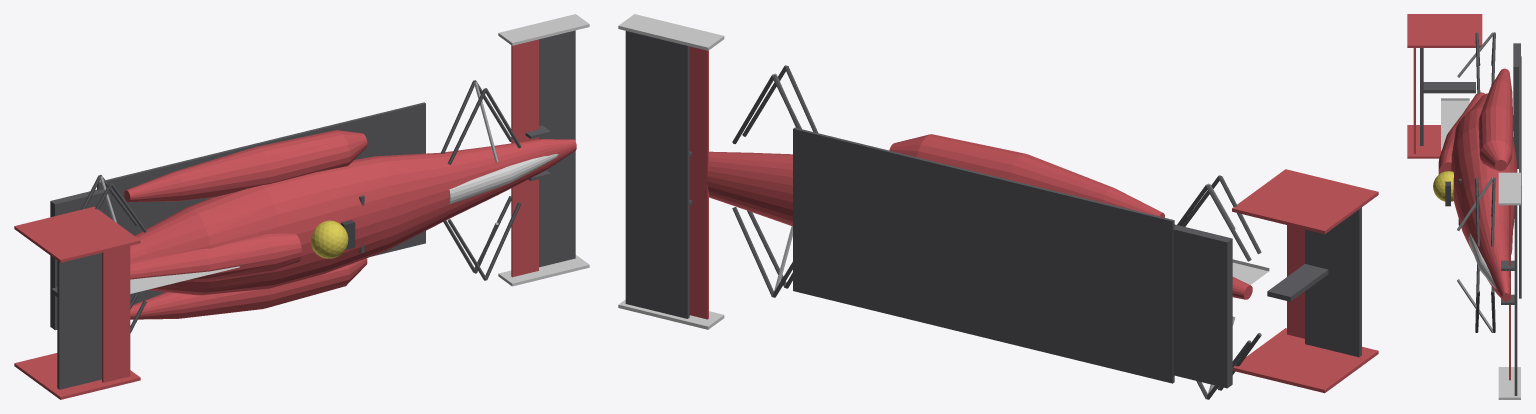
File: racecar_body.glb
3 views of the same model, side by side, from view 1: azimuth 30°, elevation 25°; view 2: azimuth 150°, elevation 25°; view 3: azimuth 270°, elevation 25° (orthographic). The views are drawn at different scales.
Visible parts, largest first — view 1: part1, part3, part10, part0, part16, part11, part5, part4, part19, part17, part18, part2 (+5 smaller); view 2: part0, part10, part21, part16, part3, part19, part11, part1, part18, part14, part17, part20 (+1 smaller); view 3: part1, part3, part19, part18, part14, part6, part10, part21, part5, part12, part0, part20 (+17 smaller).
Boxes of the visible parts, left/top/right/bottom form: part1: left=130, top=139, right=576, bottom=295; part3: left=124, top=130, right=367, bottom=202; part10: left=539, top=30, right=575, bottom=267; part0: left=97, top=102, right=425, bottom=304; part16: left=57, top=253, right=101, bottom=389; part11: left=511, top=39, right=538, bottom=277; part5: left=130, top=233, right=301, bottom=281; part4: left=130, top=258, right=367, bottom=319; part19: left=14, top=206, right=140, bottom=262; part17: left=102, top=246, right=130, bottom=382; part18: left=14, top=353, right=140, bottom=399; part2: left=449, top=153, right=558, bottom=204; part0: left=793, top=127, right=1174, bottom=383; part10: left=625, top=31, right=689, bottom=318; part21: left=1173, top=224, right=1232, bottom=388; part16: left=1305, top=207, right=1361, bottom=357; part3: left=889, top=134, right=1164, bottom=217; part19: left=1232, top=169, right=1378, bottom=234; part11: left=689, top=46, right=708, bottom=319; part1: left=707, top=151, right=792, bottom=226; part18: left=1232, top=328, right=1378, bottom=393; part14: left=618, top=14, right=724, bottom=50; part17: left=1287, top=225, right=1304, bottom=338; part20: left=1267, top=264, right=1328, bottom=301; part1: left=1450, top=93, right=1517, bottom=301; part3: left=1478, top=68, right=1513, bottom=170; part19: left=1407, top=14, right=1482, bottom=47; part18: left=1407, top=125, right=1441, bottom=158; part14: left=1498, top=172, right=1520, bottom=205; part6: left=1441, top=98, right=1469, bottom=150; part10: left=1514, top=205, right=1517, bottom=395; part21: left=1513, top=43, right=1520, bottom=168; part5: left=1438, top=92, right=1484, bottom=174; part12: left=1498, top=367, right=1520, bottom=399; part0: left=1519, top=56, right=1521, bottom=298; part20: left=1422, top=82, right=1475, bottom=93.
Size of the model in its own units: 4.38 by 1.74 by 0.915.
